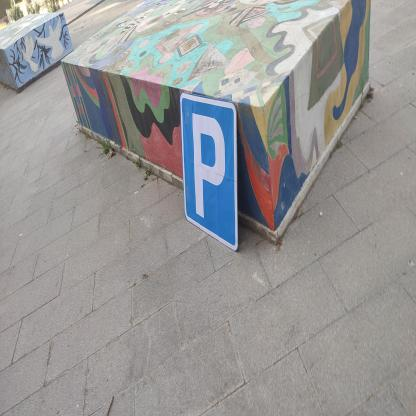Parking-Sign: (182, 93, 240, 253)
